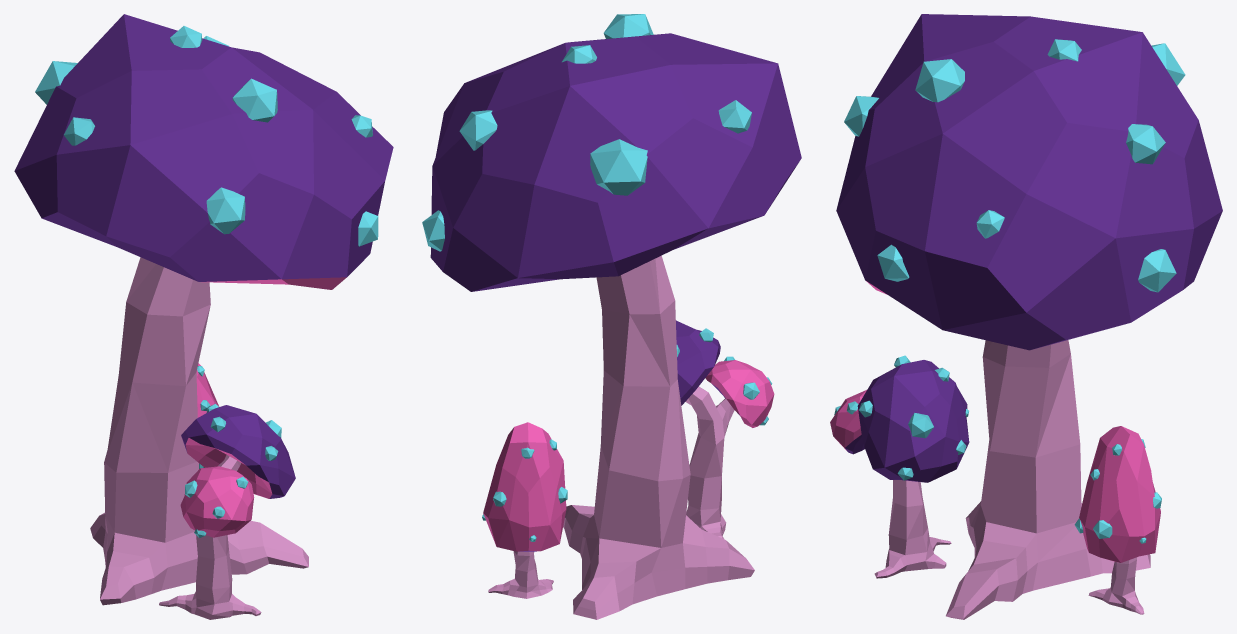
File: Mushroom_Tree_01.fbx
3 renders of one model, left to right at view 1: azimuth 30°, elevation 25°; view 2: azimuth 150°, elevation 25°; view 3: azimuth 270°, elevation 25°, orthographic. The views are drawn at different scales.
Visible parts, largest first — view 1: Mushroom_Tree_1; view 2: Mushroom_Tree_1; view 3: Mushroom_Tree_1.
Boxes of the visible parts, box(x1,y1,x2,y2) form: Mushroom_Tree_1: box(14, 14, 393, 619); Mushroom_Tree_1: box(422, 14, 801, 619); Mushroom_Tree_1: box(830, 14, 1222, 619).
Size of the model in its own units: 343 by 508 by 331.
